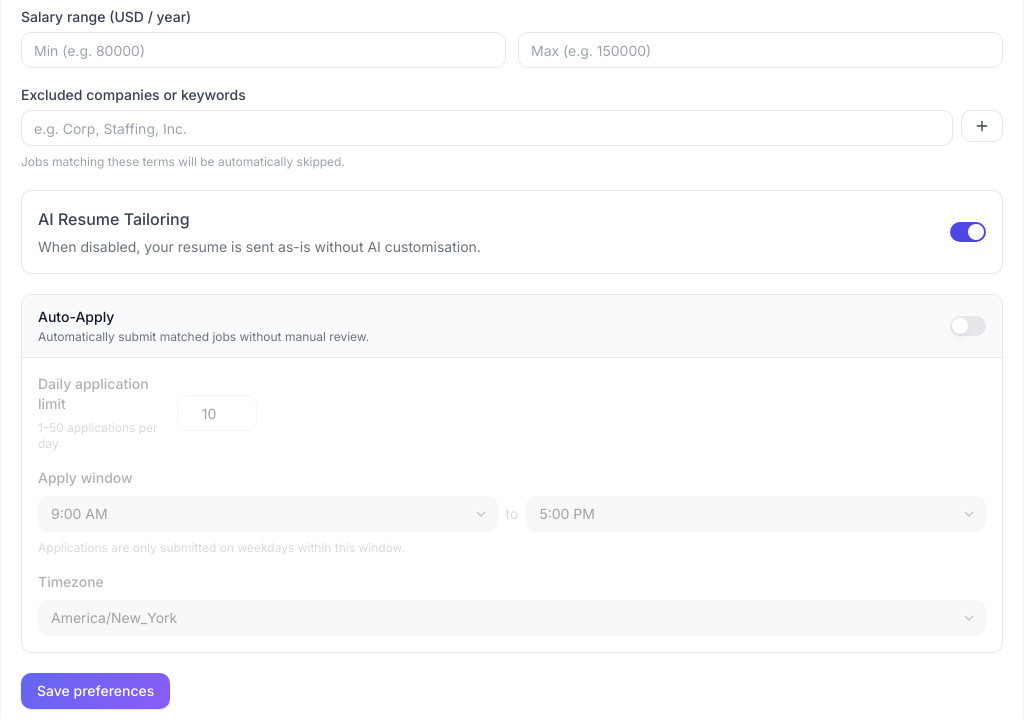
PreferencesForm › shows error alert when save fails
This screenshot has width=1024, height=720.
(page scrolled)
Click the button "Save preferences": (96, 691) [21,673,170,709]
(page scrolled)
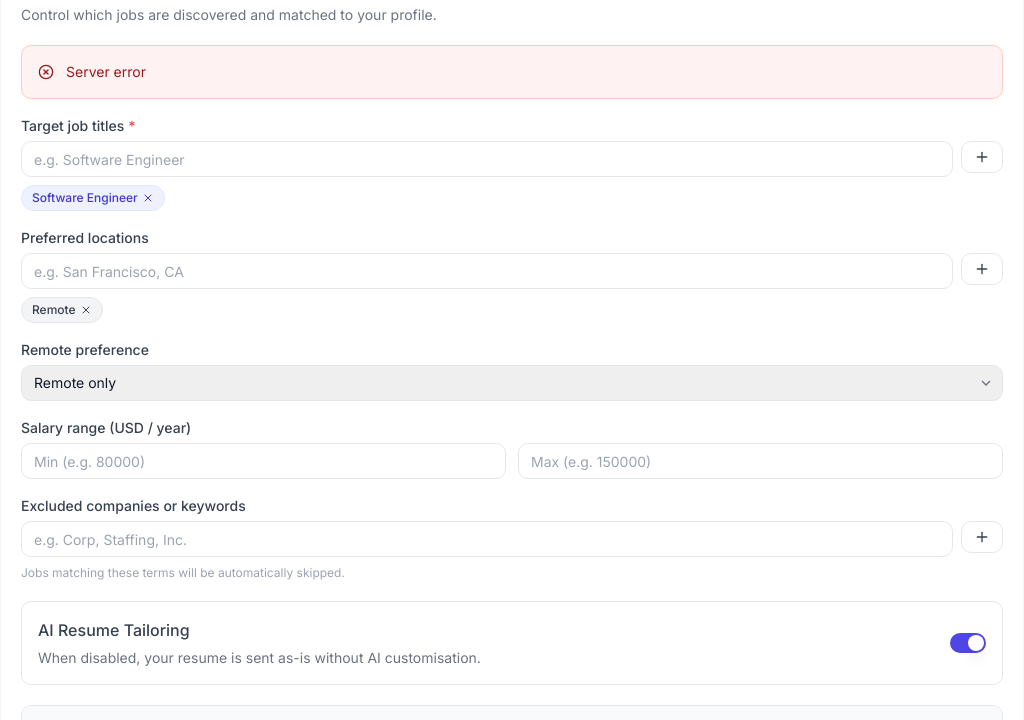
Check: the message "Server error" is shown, box [21,45,1003,99]
